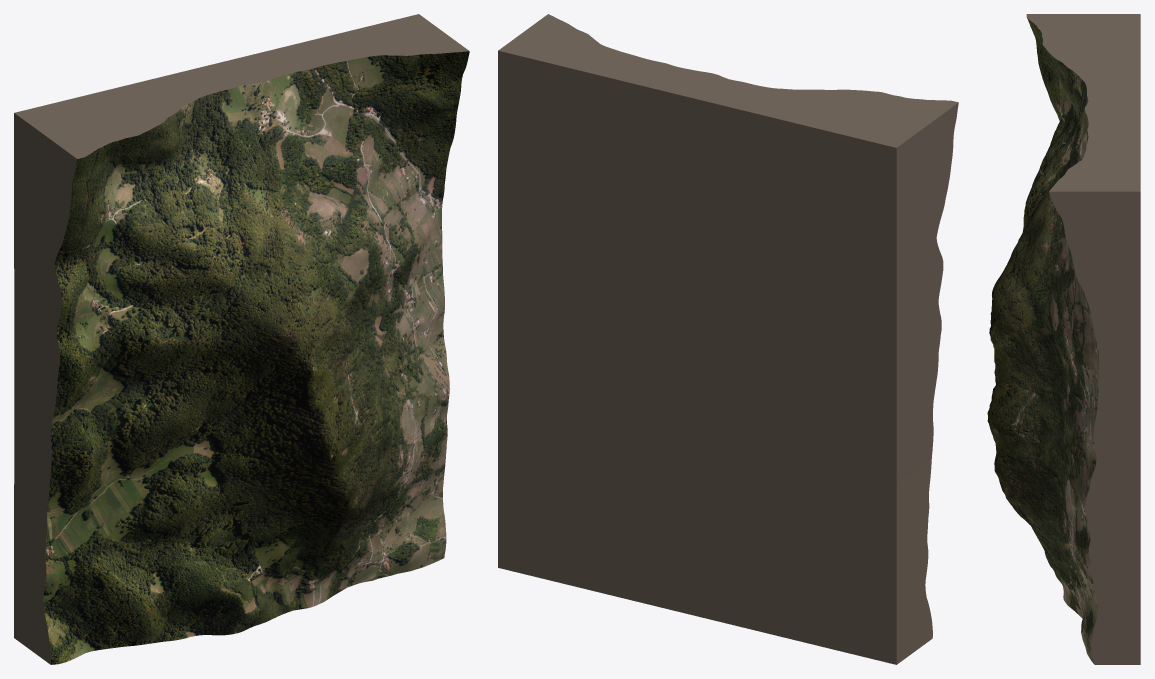
File: small_mountain_visual.obj
3 views of the same model, side by side, from view 1: azimuth 30°, elevation 25°; view 2: azimuth 150°, elevation 25°; view 3: azimuth 270°, elevation 25° (orthographic). The views are drawn at different scales.
Visible parts, largest first — view 1: Terrain.002; view 2: Terrain.002; view 3: Terrain.002.
Boxes of the visible parts, left/top/right/bottom form: Terrain.002: left=14, top=14, right=469, bottom=664; Terrain.002: left=498, top=14, right=958, bottom=664; Terrain.002: left=987, top=14, right=1140, bottom=664.
Size of the model in its own units: 1948 by 2416 by 708.
Materials: 2 (1 with a texture image).
